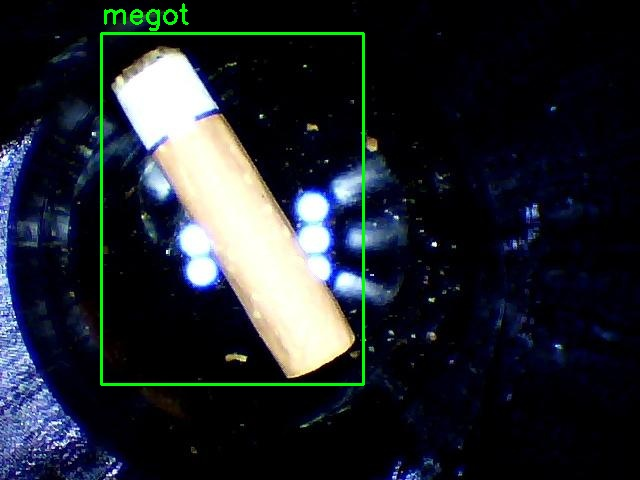megot: (101, 33, 363, 384)
